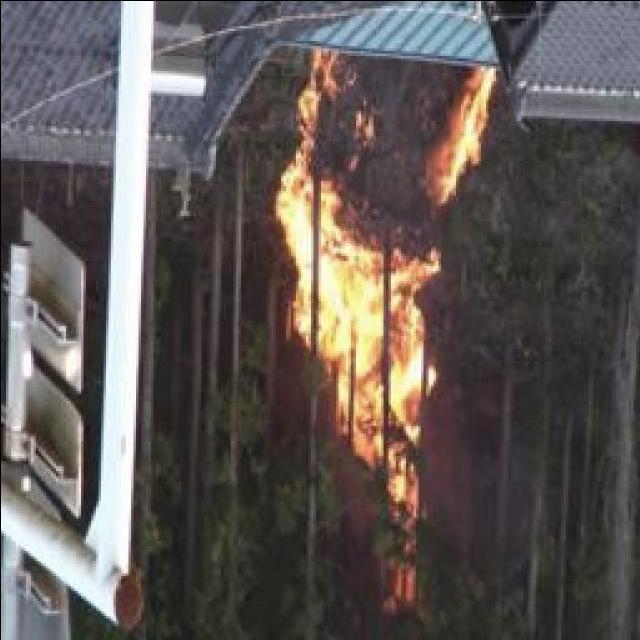Fire: (278, 44, 506, 534)
